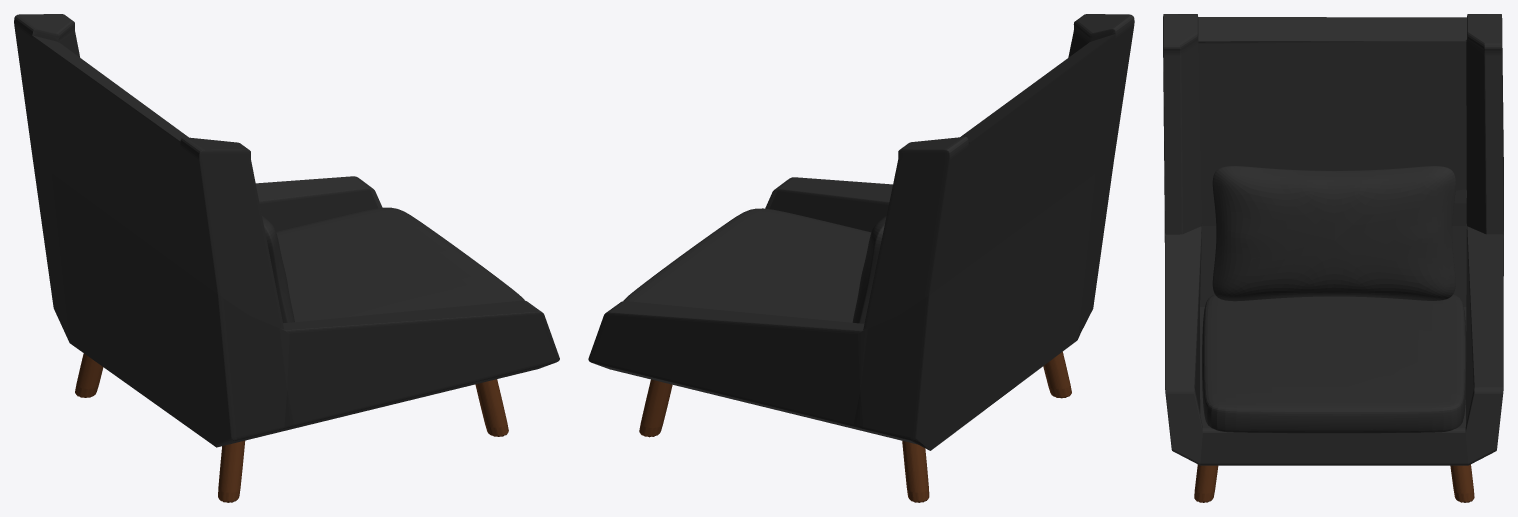
File: minisofa.gltf
3 views of the same model, side by side, from view 1: azimuth 30°, elevation 25°; view 2: azimuth 150°, elevation 25°; view 3: azimuth 270°, elevation 25° (orthographic). The views are drawn at different scales.
Visible parts, largest first — view 1: monisofa body, minisofa seat, leg, pillow; view 2: monisofa body, minisofa seat, leg, pillow; view 3: monisofa body, minisofa seat, pillow, leg.
Boxes of the visible parts, x1,y1,x2,y2 form: monisofa body: (14, 14, 559, 447); minisofa seat: (276, 207, 524, 322); leg: (75, 353, 508, 502); pillow: (262, 216, 294, 323); monisofa body: (588, 14, 1134, 450); minisofa seat: (623, 208, 871, 322); leg: (639, 351, 1071, 502); pillow: (852, 215, 886, 323); monisofa body: (1163, 14, 1503, 465); minisofa seat: (1202, 294, 1466, 433); pillow: (1212, 166, 1455, 301); leg: (1194, 464, 1474, 502).
Bounding box in the file's own units: 3.56 × 3.51 × 3.15.
